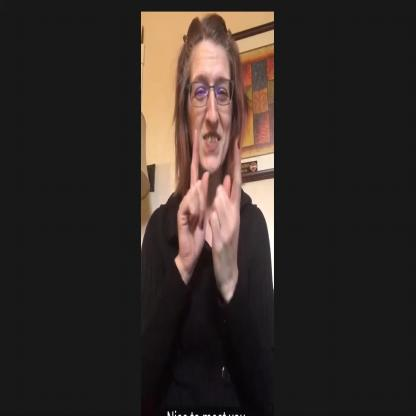NiceToMeetYou: (178, 131, 250, 269)
